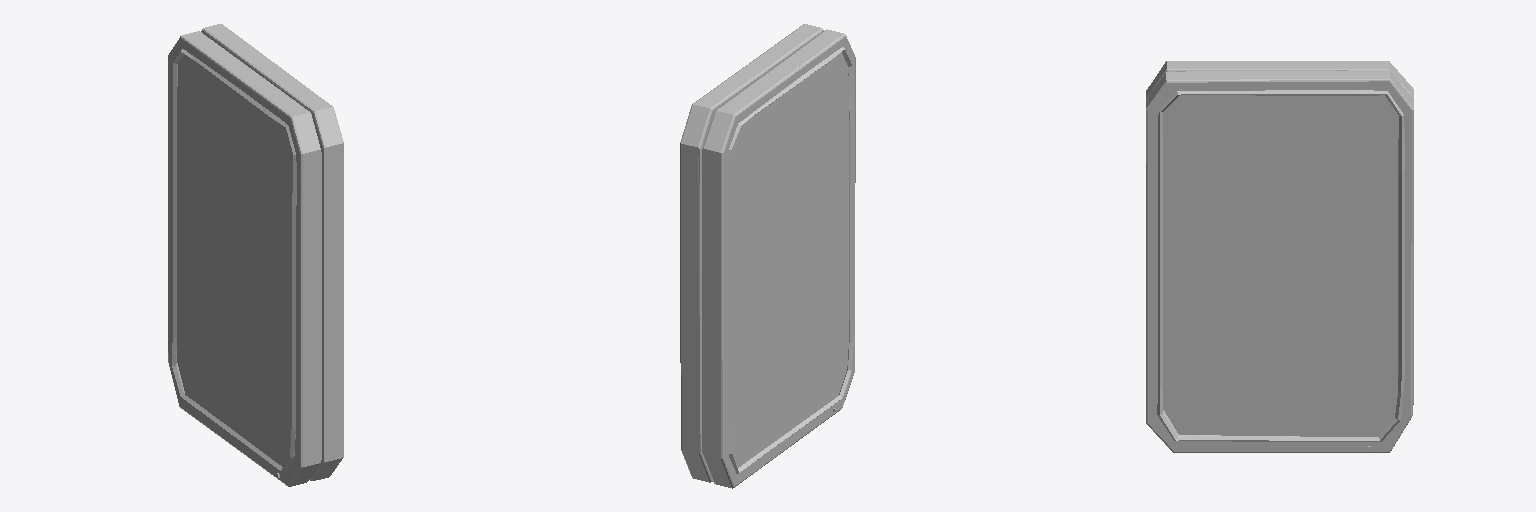
File: screen.obj
3 renders of one model, left to right at view 1: azimuth 30°, elevation 25°; view 2: azimuth 150°, elevation 25°; view 3: azimuth 270°, elevation 25°, orthographic.
Visible parts, largest first — view 1: glass, green, black; view 2: glass, green, black; view 3: glass, green, black.
Part boxes in pixels (left/top/right/bottom): glass: left=177, top=55, right=292, bottom=466; green: left=168, top=24, right=343, bottom=486; black: left=172, top=49, right=296, bottom=473; glass: left=731, top=52, right=848, bottom=467; green: left=680, top=24, right=855, bottom=488; black: left=728, top=47, right=853, bottom=473; glass: left=1163, top=95, right=1398, bottom=436; green: left=1146, top=61, right=1413, bottom=452; black: left=1157, top=90, right=1404, bottom=441.
Bounding box in the file's own units: 38 × 271 × 176.